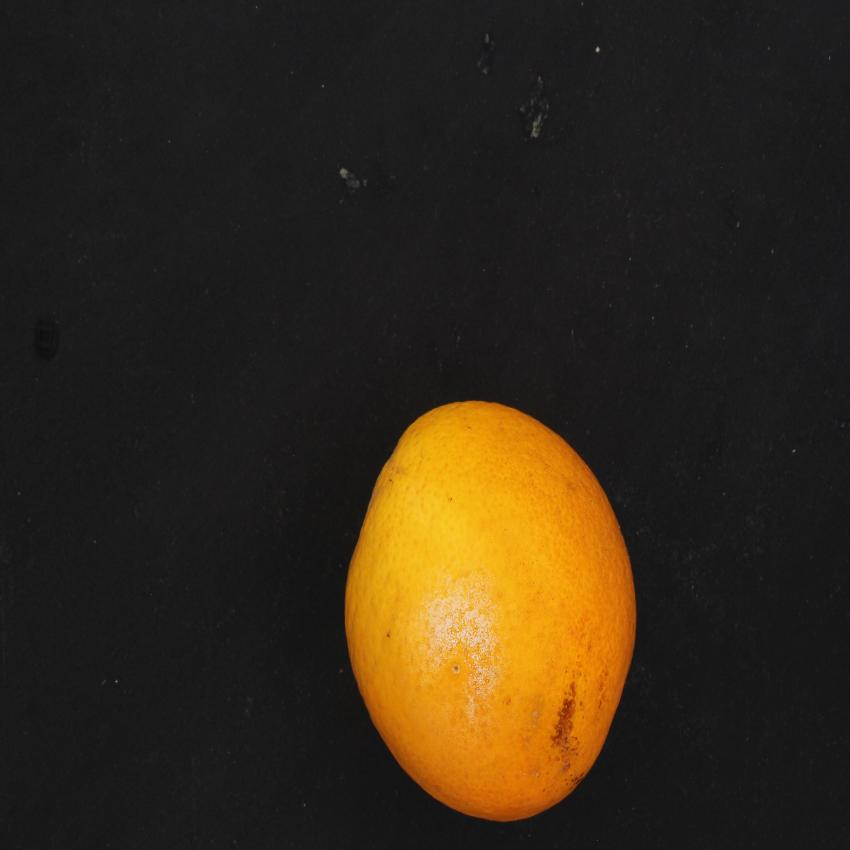Mal estado: (334, 391, 650, 830)
